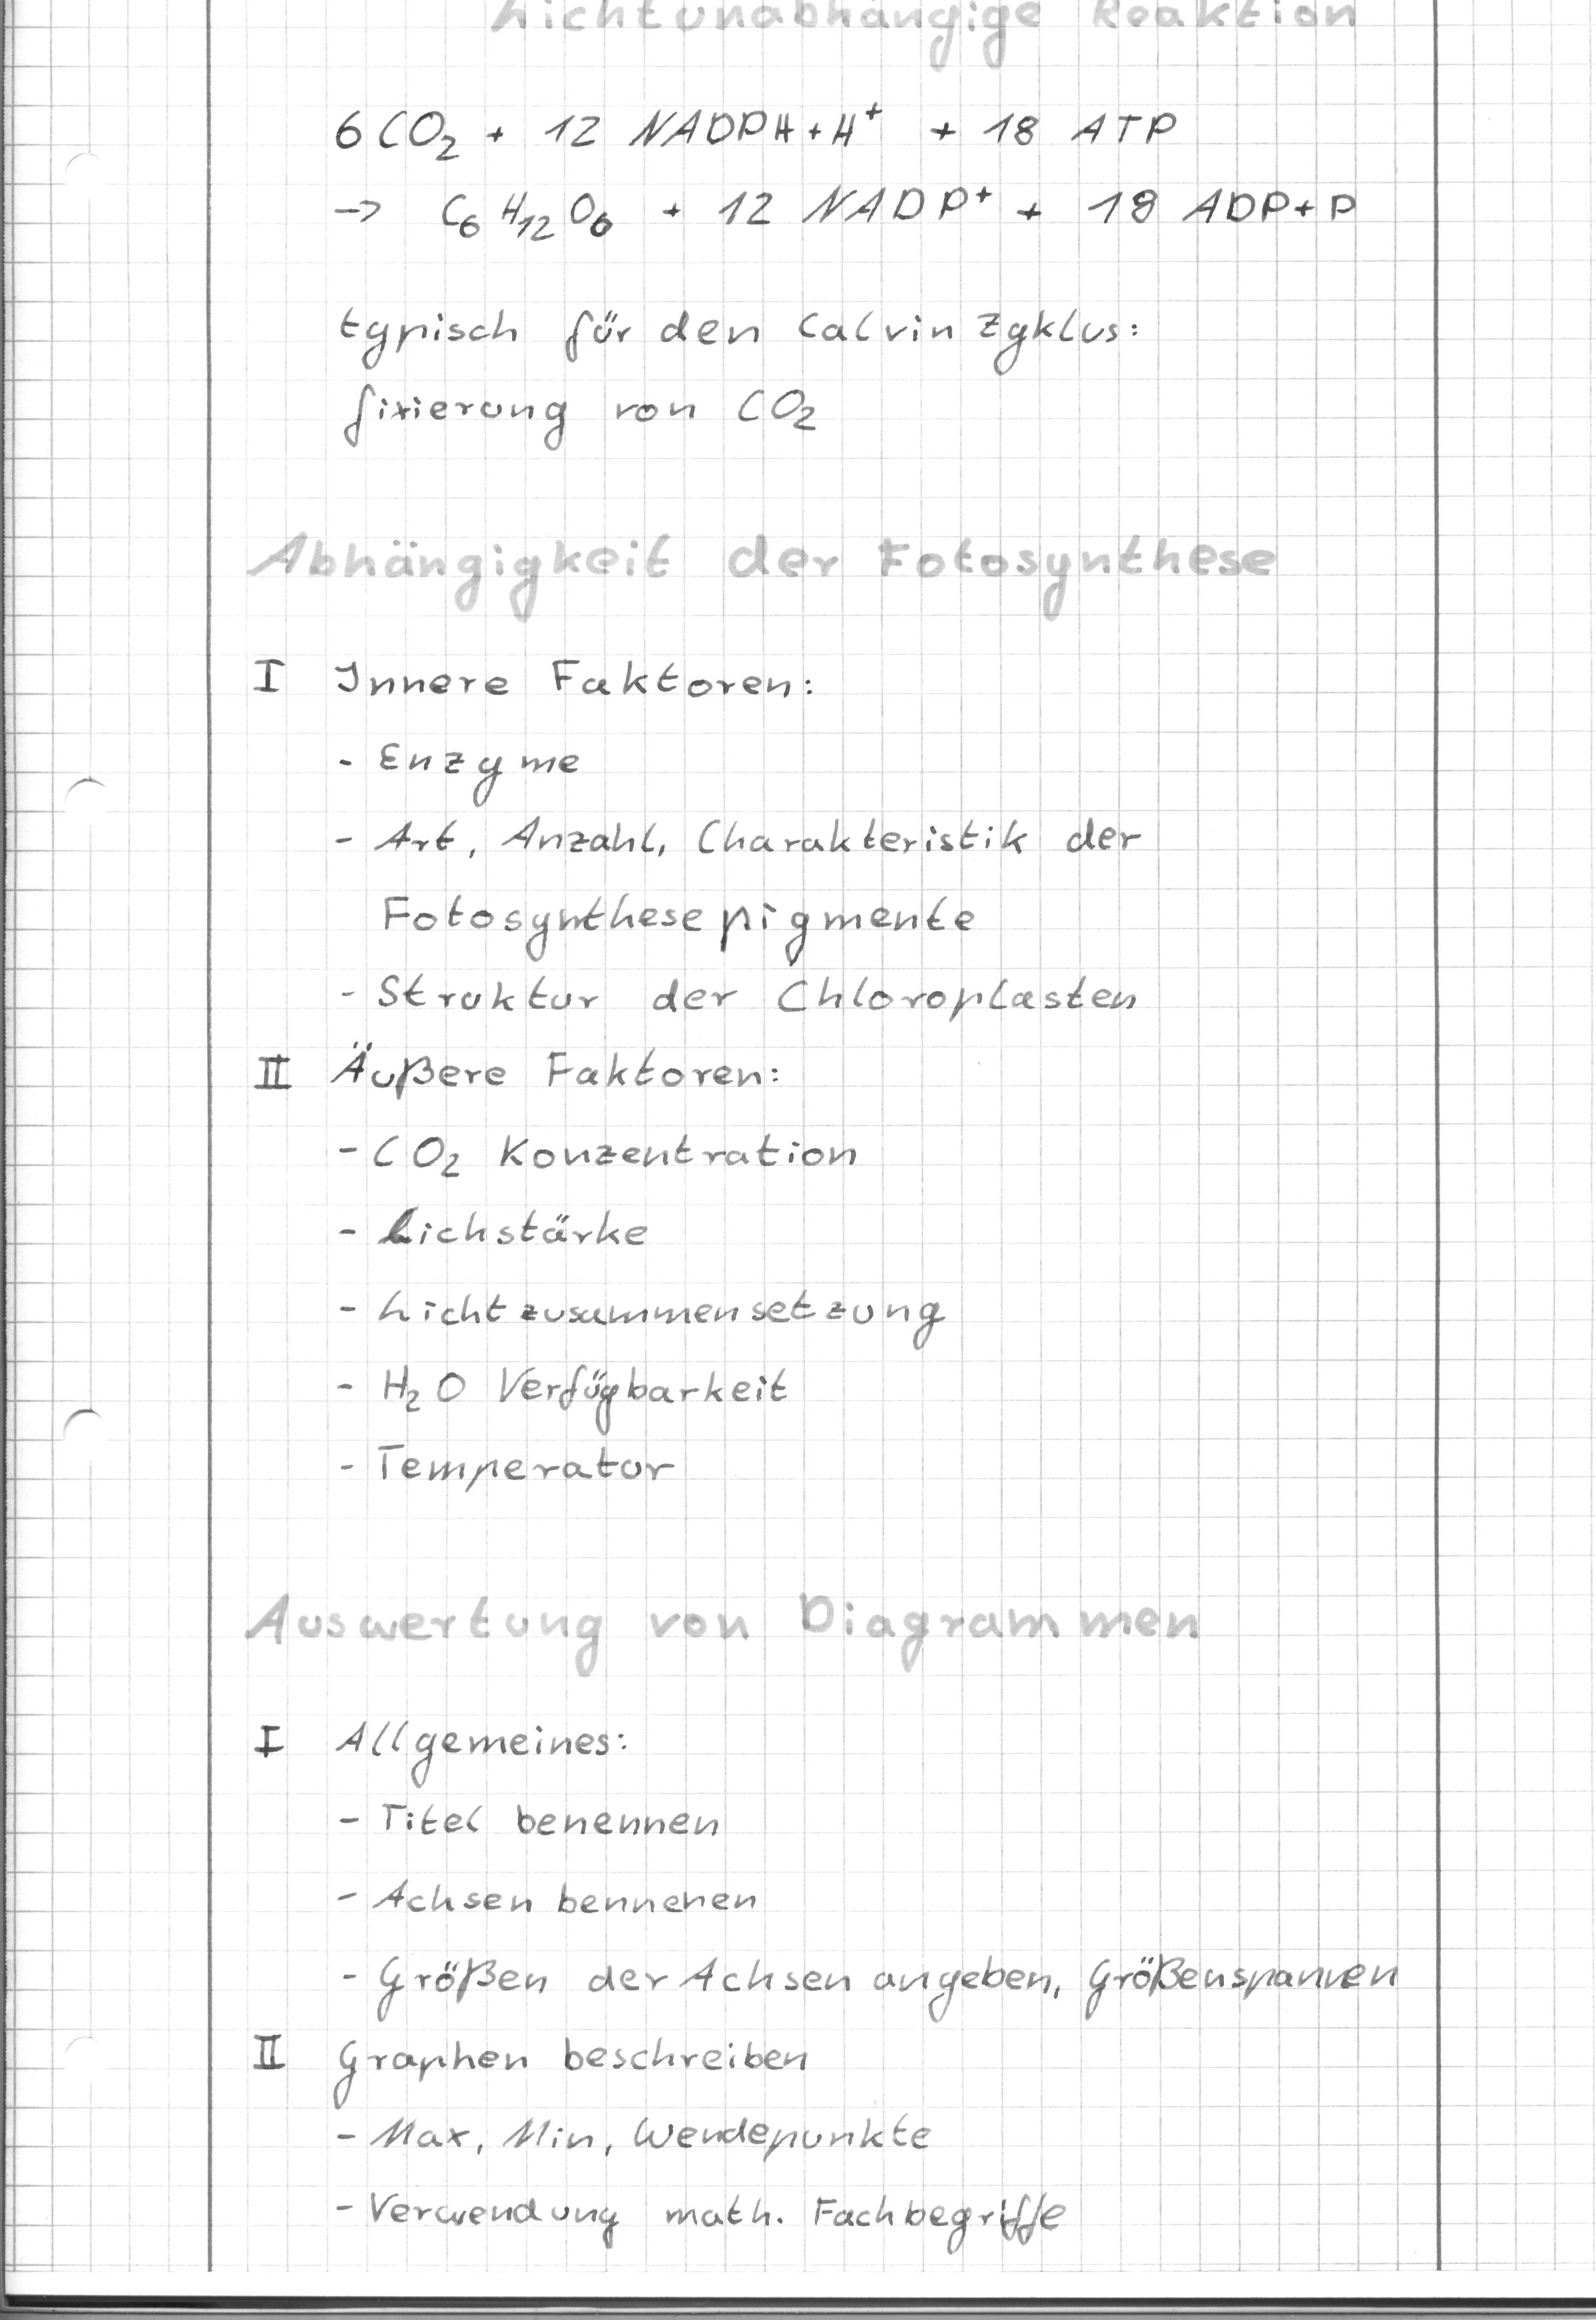word: (325, 1709, 1415, 2028), (320, 725, 1146, 1032), (316, 1113, 953, 1512), (240, 2020, 1075, 2267), (322, 90, 1370, 243), (318, 287, 1155, 465), (217, 1022, 804, 1120), (230, 636, 834, 719), (240, 1702, 311, 1777)
